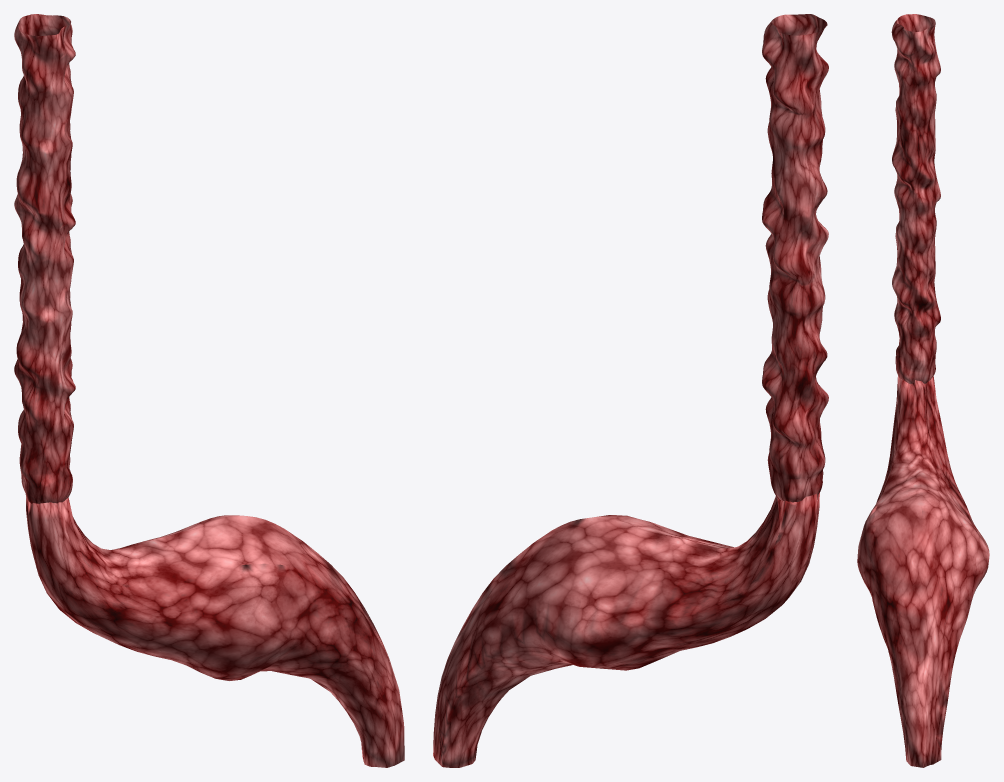
File: twothings.fbx
3 renders of one model, left to right at view 1: azimuth 30°, elevation 25°; view 2: azimuth 150°, elevation 25°; view 3: azimuth 270°, elevation 25°, orthographic. The views are drawn at different scales.
Parts seen in each view (by area): view 1: belly, _3DCanalAnimatedModel; view 2: belly, _3DCanalAnimatedModel; view 3: belly, _3DCanalAnimatedModel.
Part boxes in pixels (x1=…): belly: x1=25, y1=493, x2=404, y2=767; _3DCanalAnimatedModel: x1=14, y1=14, x2=75, y2=503; belly: x1=433, y1=492, x2=819, y2=767; _3DCanalAnimatedModel: x1=762, y1=14, x2=828, y2=502; belly: x1=857, y1=375, x2=989, y2=767; _3DCanalAnimatedModel: x1=891, y1=14, x2=940, y2=383.
Bounding box in the file's own units: 10204 × 20664 × 4029.
1 material, 1 textured.
